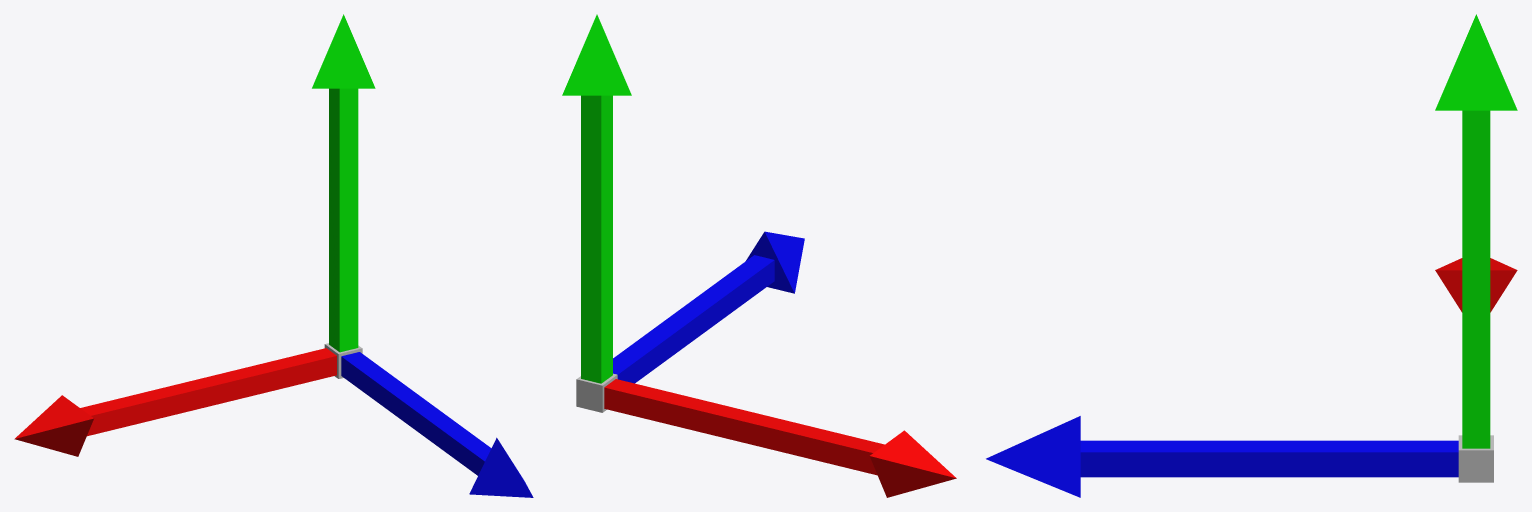
Rendered from axis.obj.
3 views of the same model, side by side, from view 1: azimuth 30°, elevation 25°; view 2: azimuth 150°, elevation 25°; view 3: azimuth 270°, elevation 25° (orthographic). The views are drawn at different scales.
Size of the model in its own units: 3.84 by 3.89 by 3.84.
